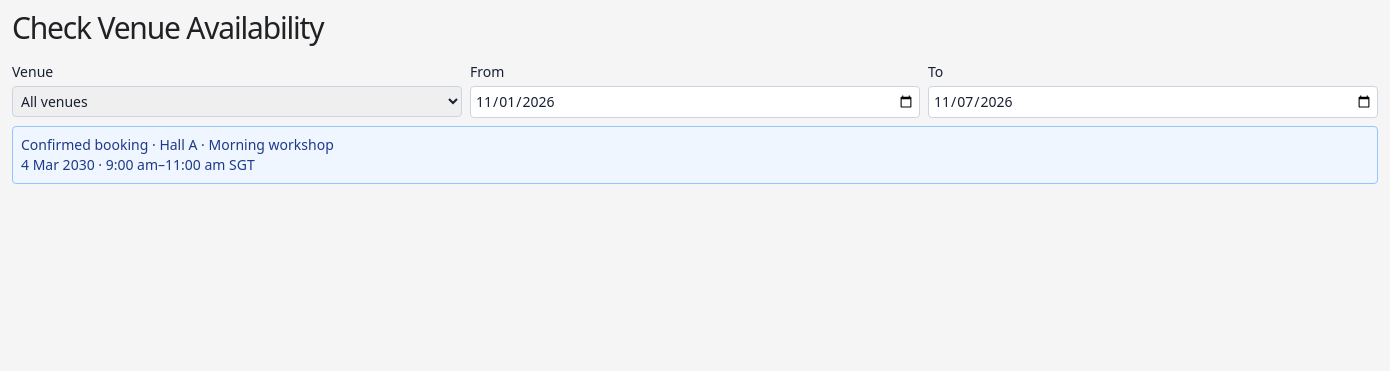
SCRUM-77 AC1 and AC2: a booking shows its details and the event
Click the button "Confirmed booking".
click(85, 144)  # box [12, 126, 1378, 184]
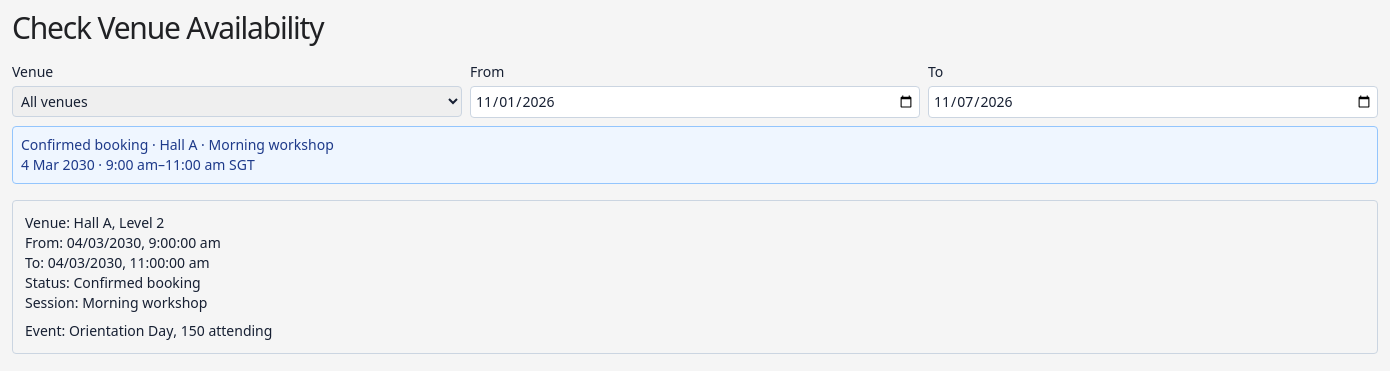
Check: the text "Hall A, Level 2" is shown, box [74, 213, 164, 232]
Check: the text "Confirmed booking" next to "Status:" is shown, box [73, 273, 201, 292]
Check: the text "Orientation Day" is shown, box [69, 321, 173, 340]
